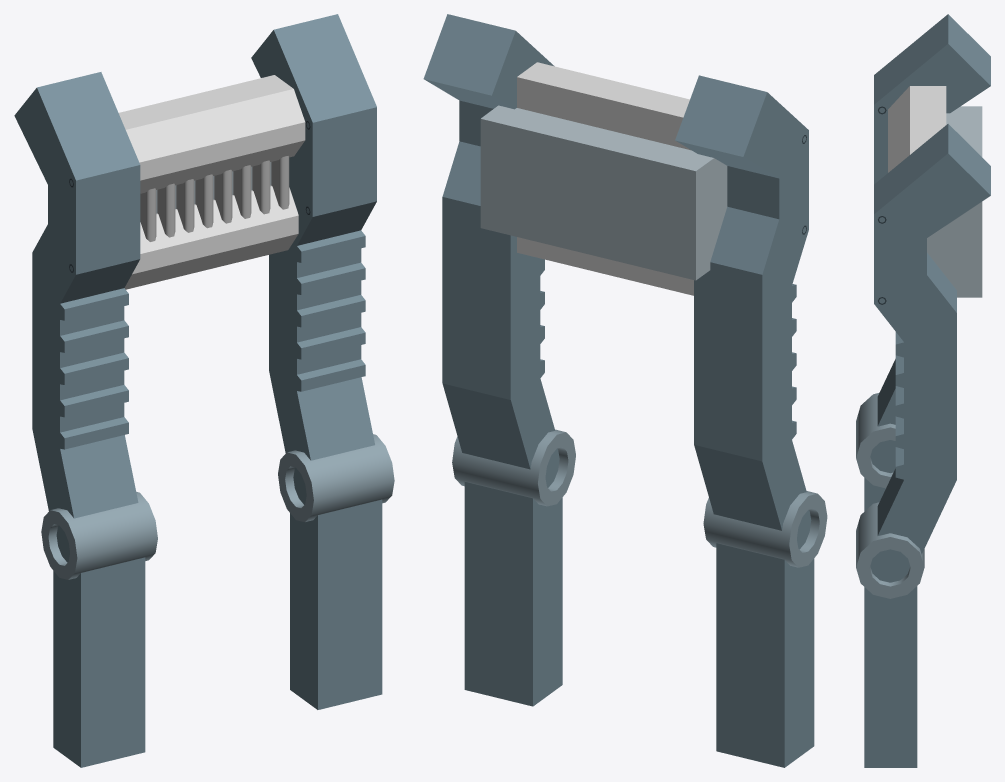
Rendered from space_station_013.fbx.
3 renders of one model, left to right at view 1: azimuth 30°, elevation 25°; view 2: azimuth 150°, elevation 25°; view 3: azimuth 270°, elevation 25°, orthographic. The views are drawn at different scales.
Visible parts, largest first — view 1: space_station_013; view 2: space_station_013; view 3: space_station_013.
Part boxes in pixels (<box>): space_station_013: <box>14,14,394,767</box>; space_station_013: <box>423,14,827,767</box>; space_station_013: <box>856,14,990,767</box>.
Bounding box in the file's own units: 1669 × 648 × 3259.
